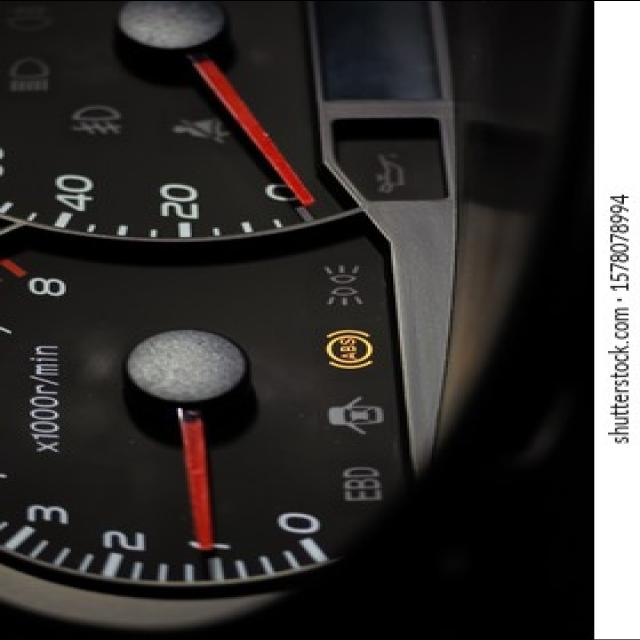Anti Lock Braking System: (320, 326, 377, 373)
